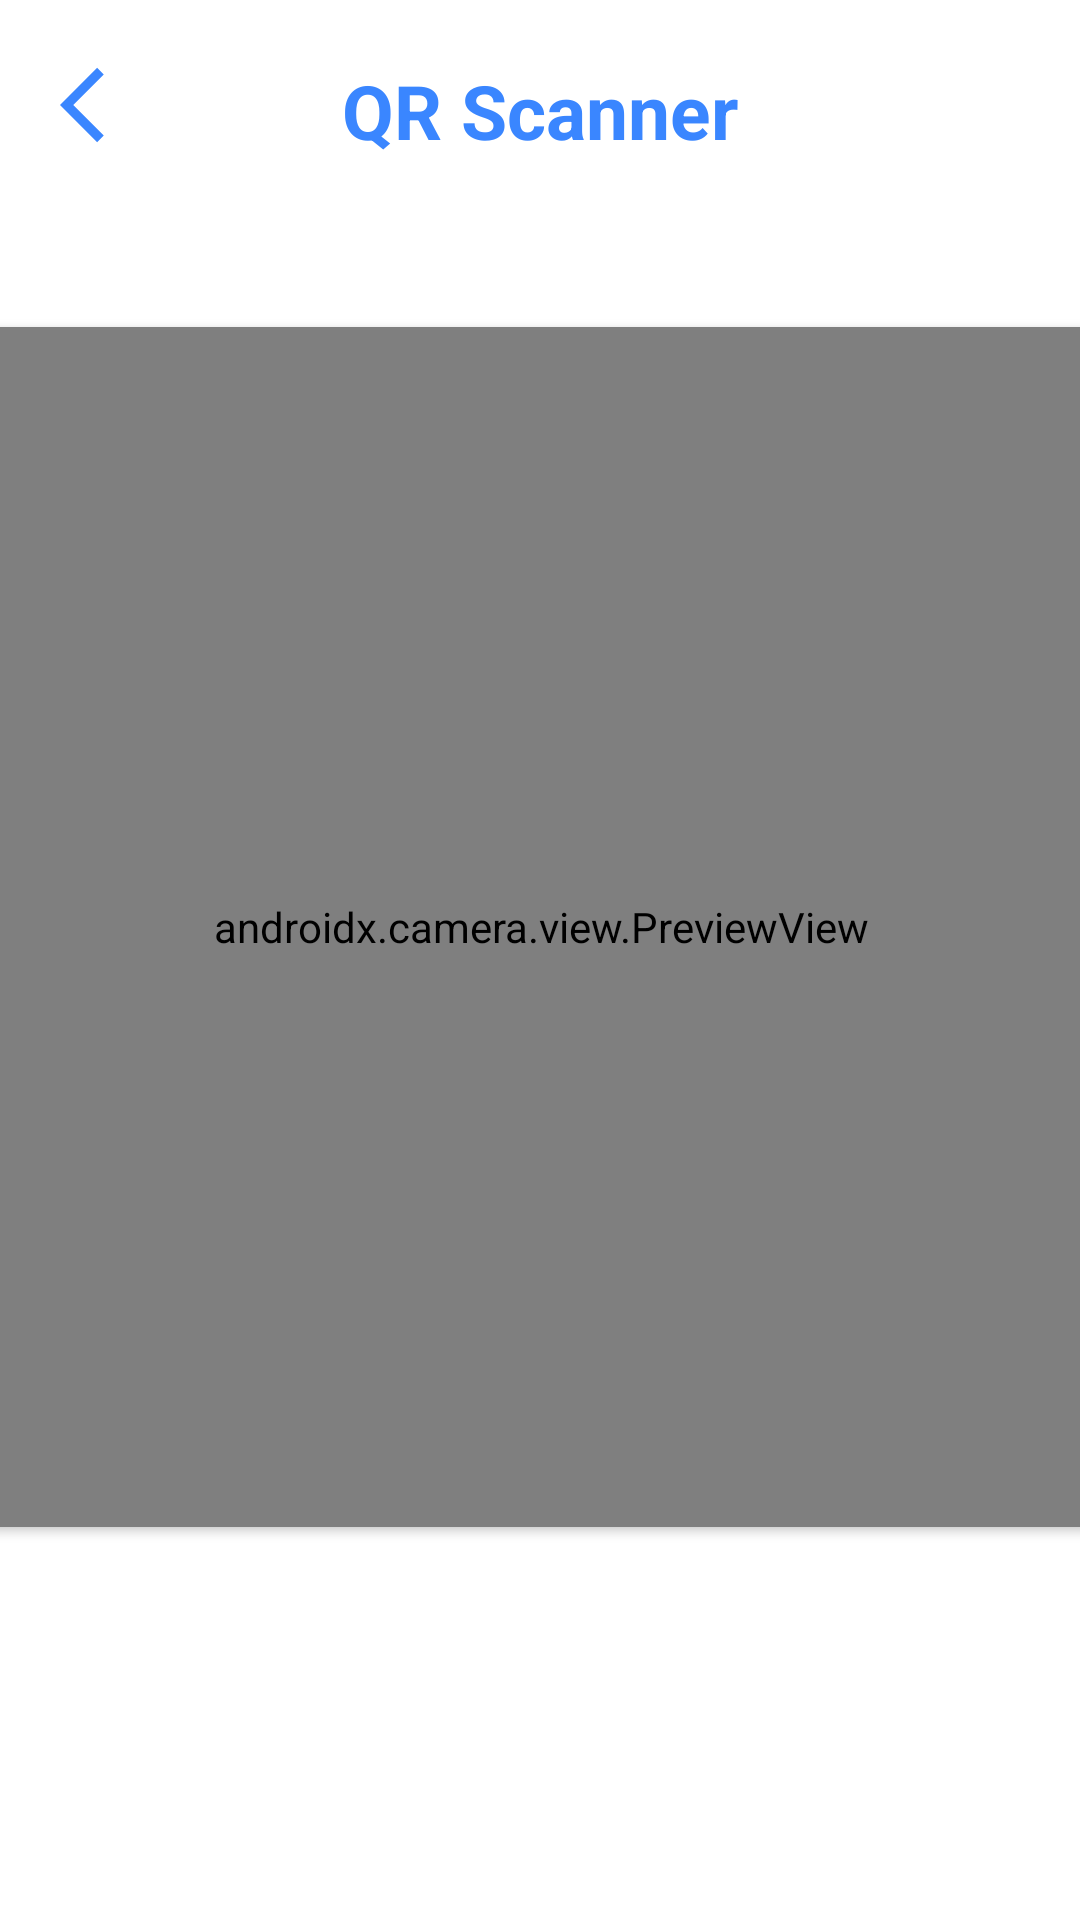

Screen size 1080px x 1920px. Icon name, then its center in pixels as (x=x, y=y):
arrow back: (x=82, y=105)
